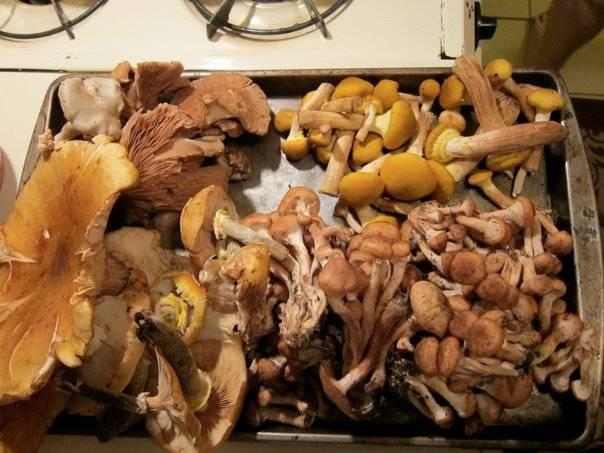edible_mushroom: (1, 54, 594, 450)
